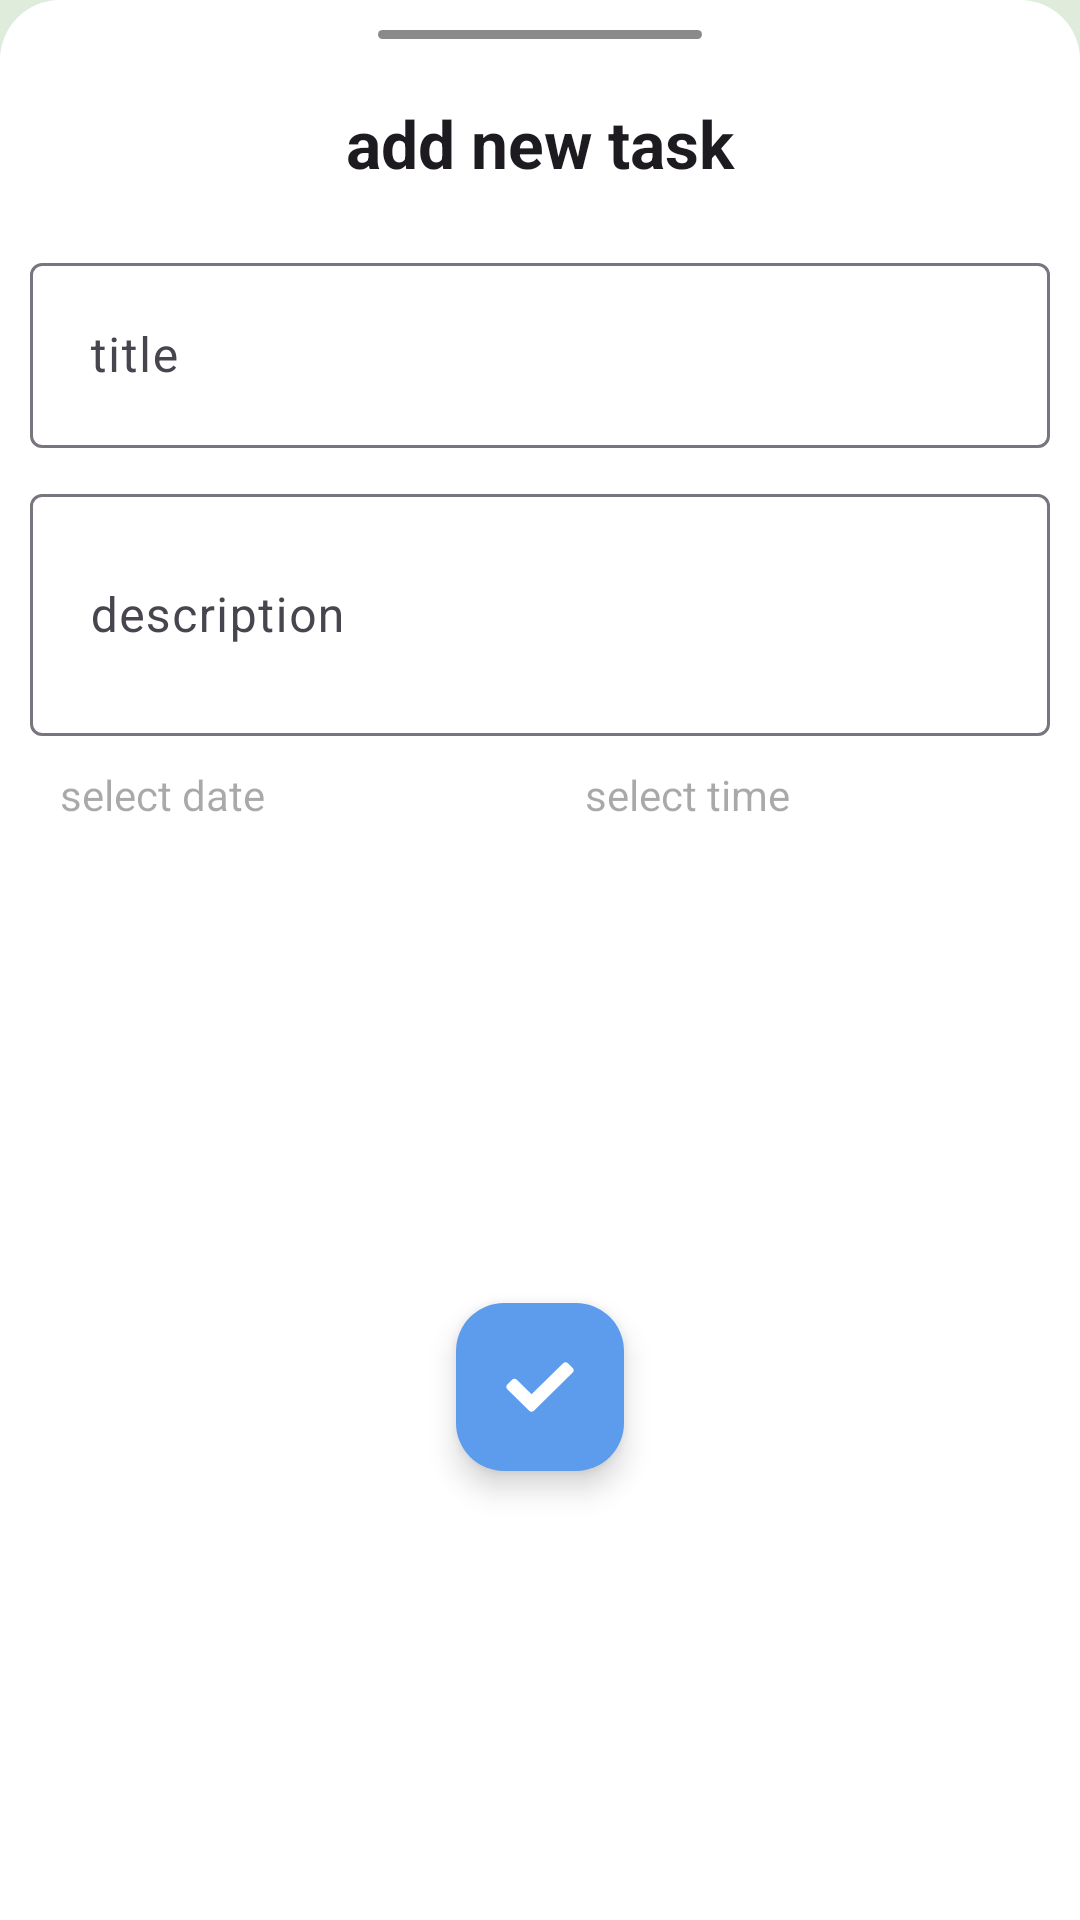

Named icons in this screenshot (1080 x 1920) and their centers, (x,y):
add new task: (540,1387)
